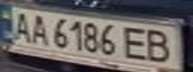1: (66, 18, 84, 52)
6: (100, 21, 121, 56), (48, 16, 69, 50)
8: (81, 20, 103, 54)
A: (9, 9, 36, 43), (27, 12, 51, 45)
B: (142, 27, 181, 63)
E: (121, 25, 154, 61)
